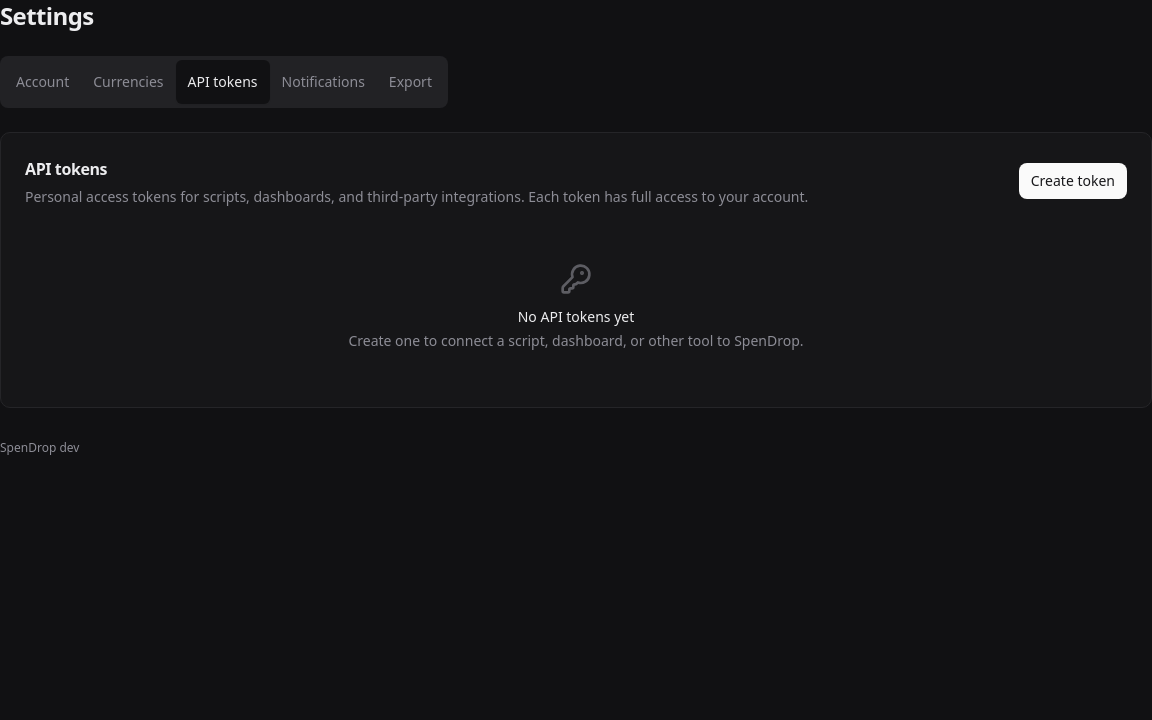
ApiTokensSection › closing the reveal clears plaintext from state (cannot be re-opened)
Expected: the text "No API tokens yet" is shown, [518,307,634,326]
Click the button "Create token": (1073,181) [1019,163,1127,199]
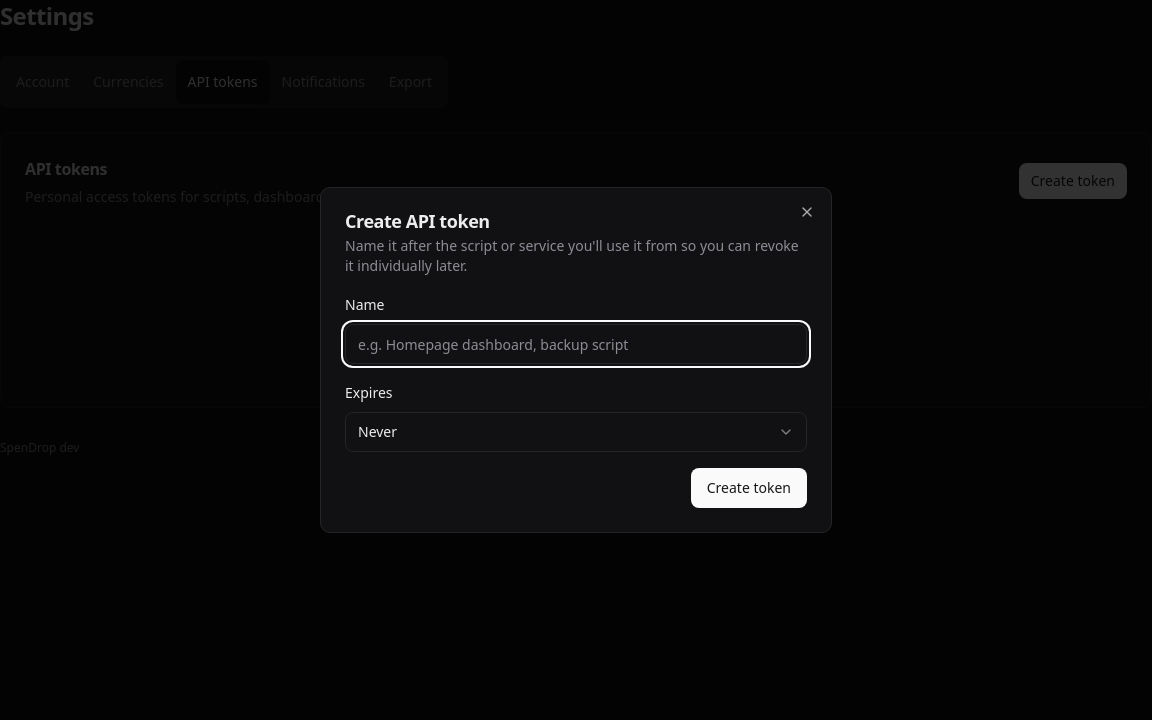
In the field labelled "Name": (576,344) [345,324,807,364], type "Homepage"
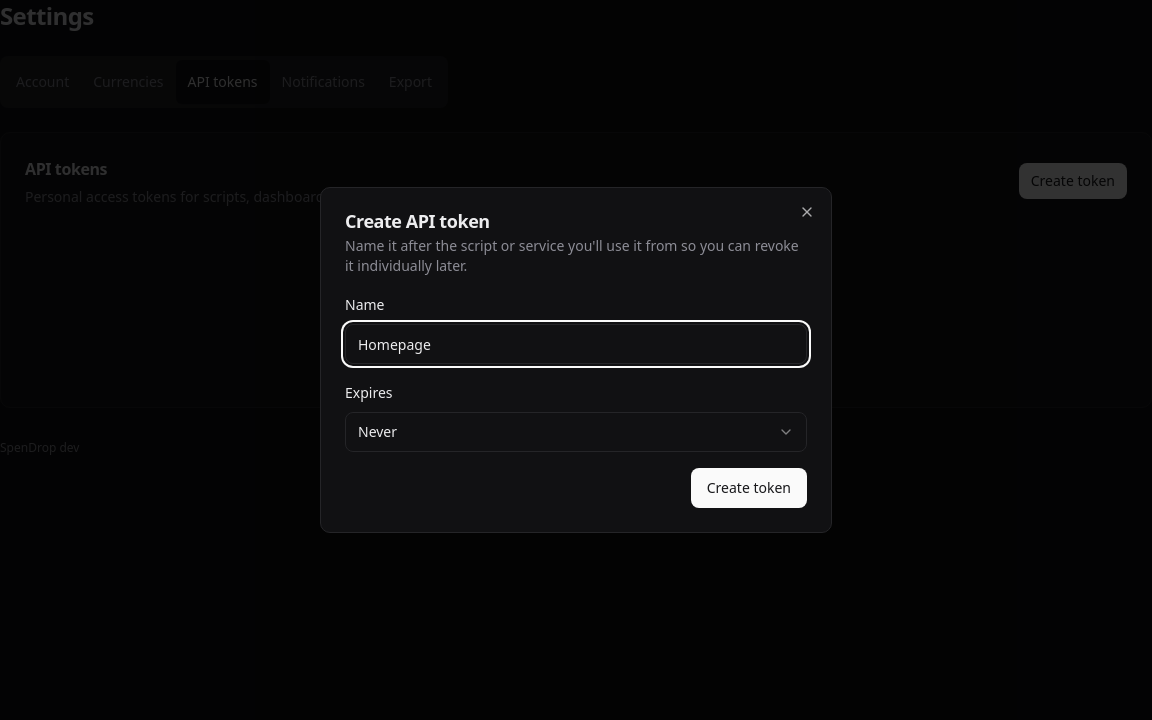
Click the button "Create token": (749,488) [691,468,807,508]
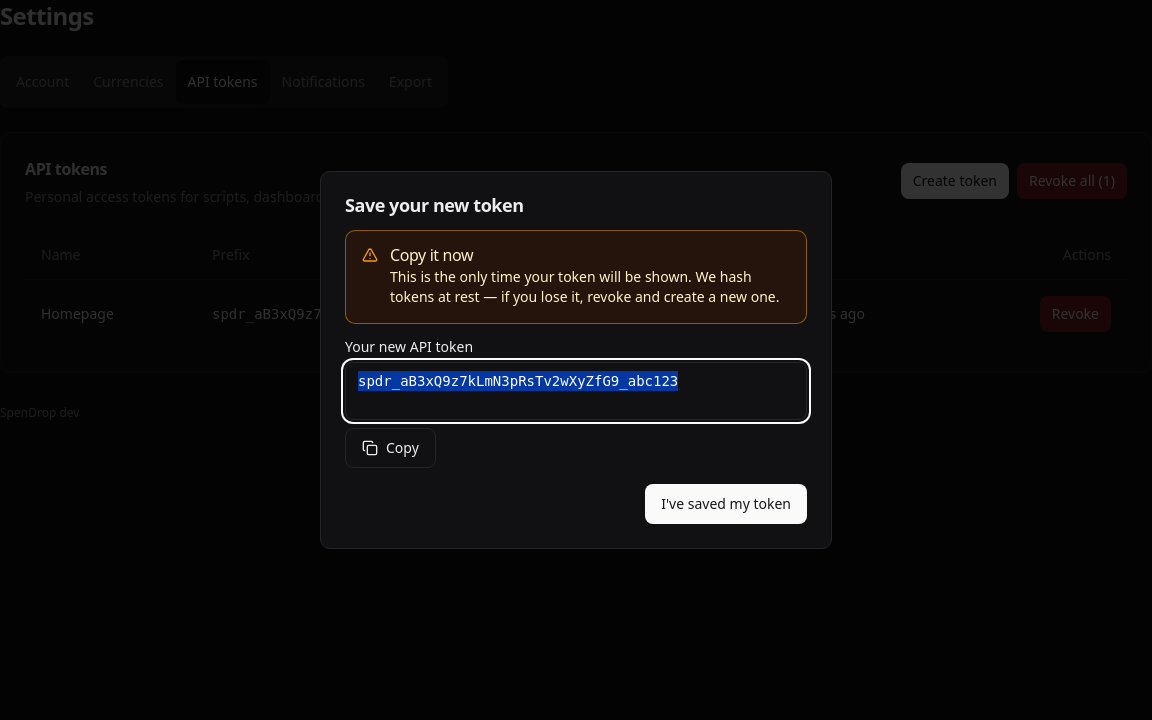
Expected: the heading "Save your new token" is shown, [345,193,524,217]
Click the button "I've saved my token": (726,504) [645,484,807,524]
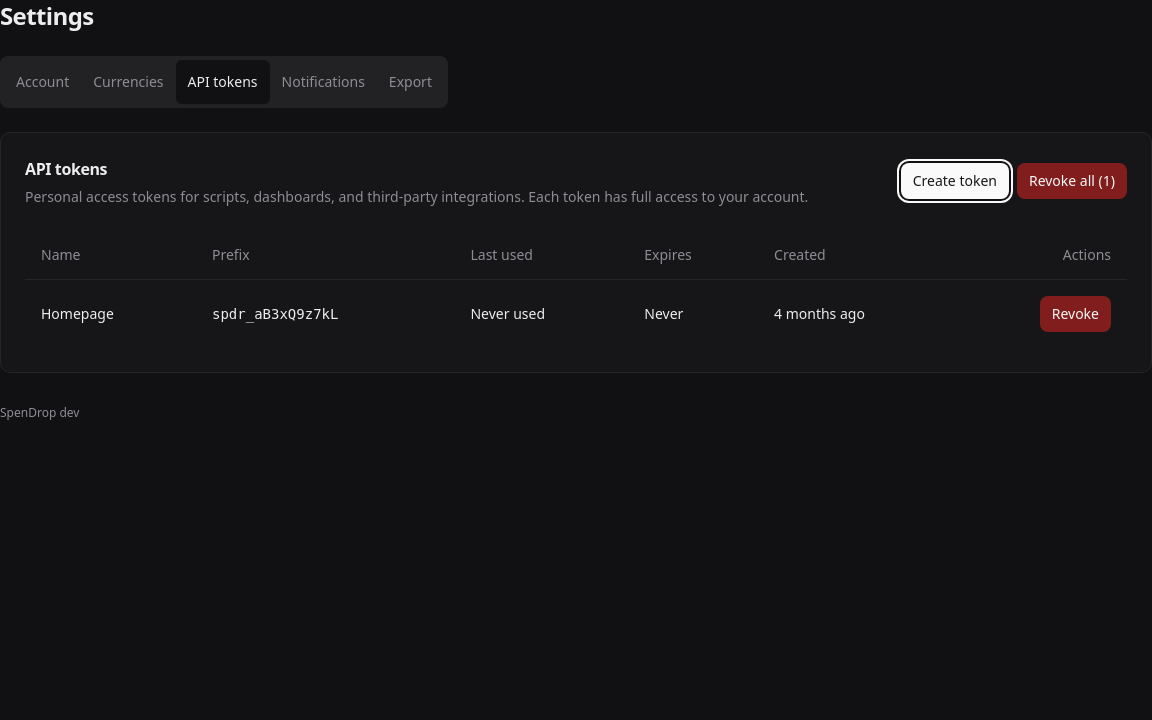
Expected: the heading "Save your new token" is gone
Click the button "Create token": (955,181) [901,163,1009,199]
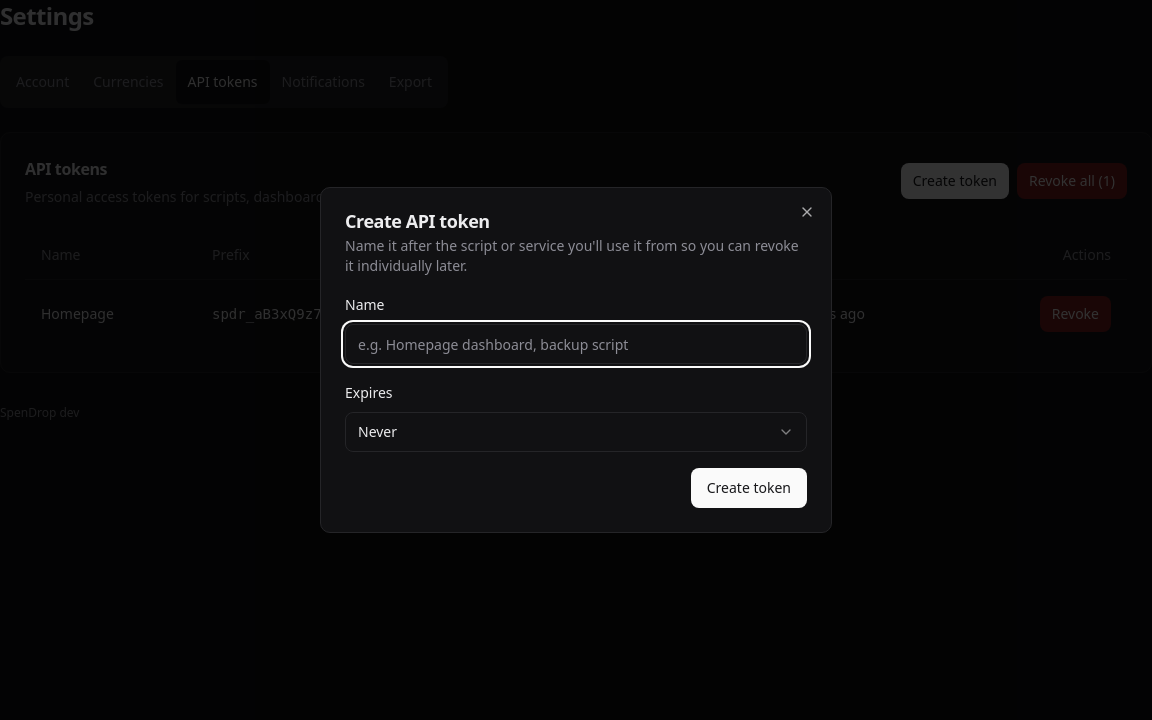
Expected: the field showing "spdr_aB3xQ9z7kLmN3pRsTv2wXyZfG9_abc123" is not shown
Expected: the heading "Create API token" is shown, [345,209,490,233]
